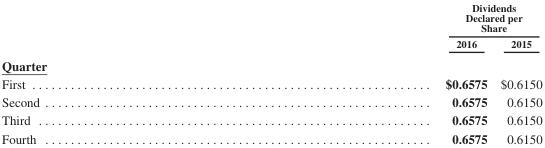table: (0, 1, 541, 145)
table column: (241, 1, 493, 145), (0, 1, 241, 145), (493, 1, 541, 145)
table column header: (0, 1, 541, 53)
table projected row header: (0, 53, 541, 74)
table row: (0, 1, 541, 35), (0, 53, 541, 74), (0, 35, 541, 53), (0, 74, 541, 92), (0, 92, 541, 110), (0, 110, 541, 128), (0, 128, 541, 145)
table spanning cell: (241, 1, 541, 35)
